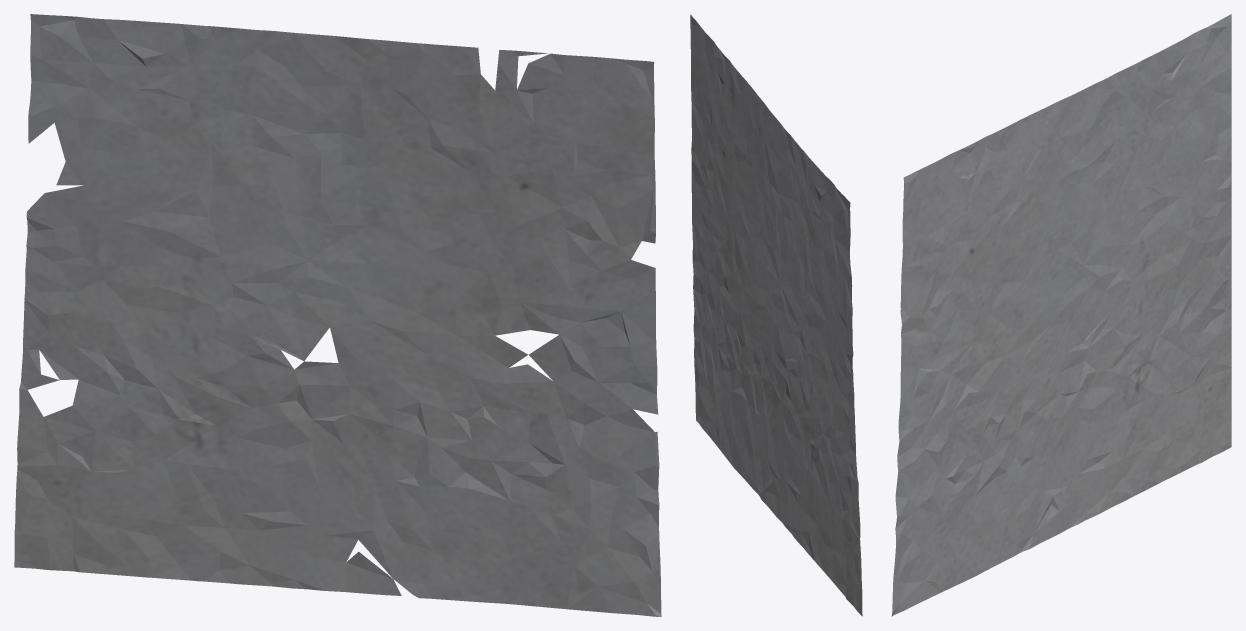
The picture shows the model from 3 angles, left to right: view 1: azimuth 30°, elevation 25°; view 2: azimuth 150°, elevation 25°; view 3: azimuth 270°, elevation 25°; orthographic projection. The views are drawn at different scales.
Size of the model in its own units: 0.6938 by 0.8374 by 0.5875.
3 materials, 3 textured.
